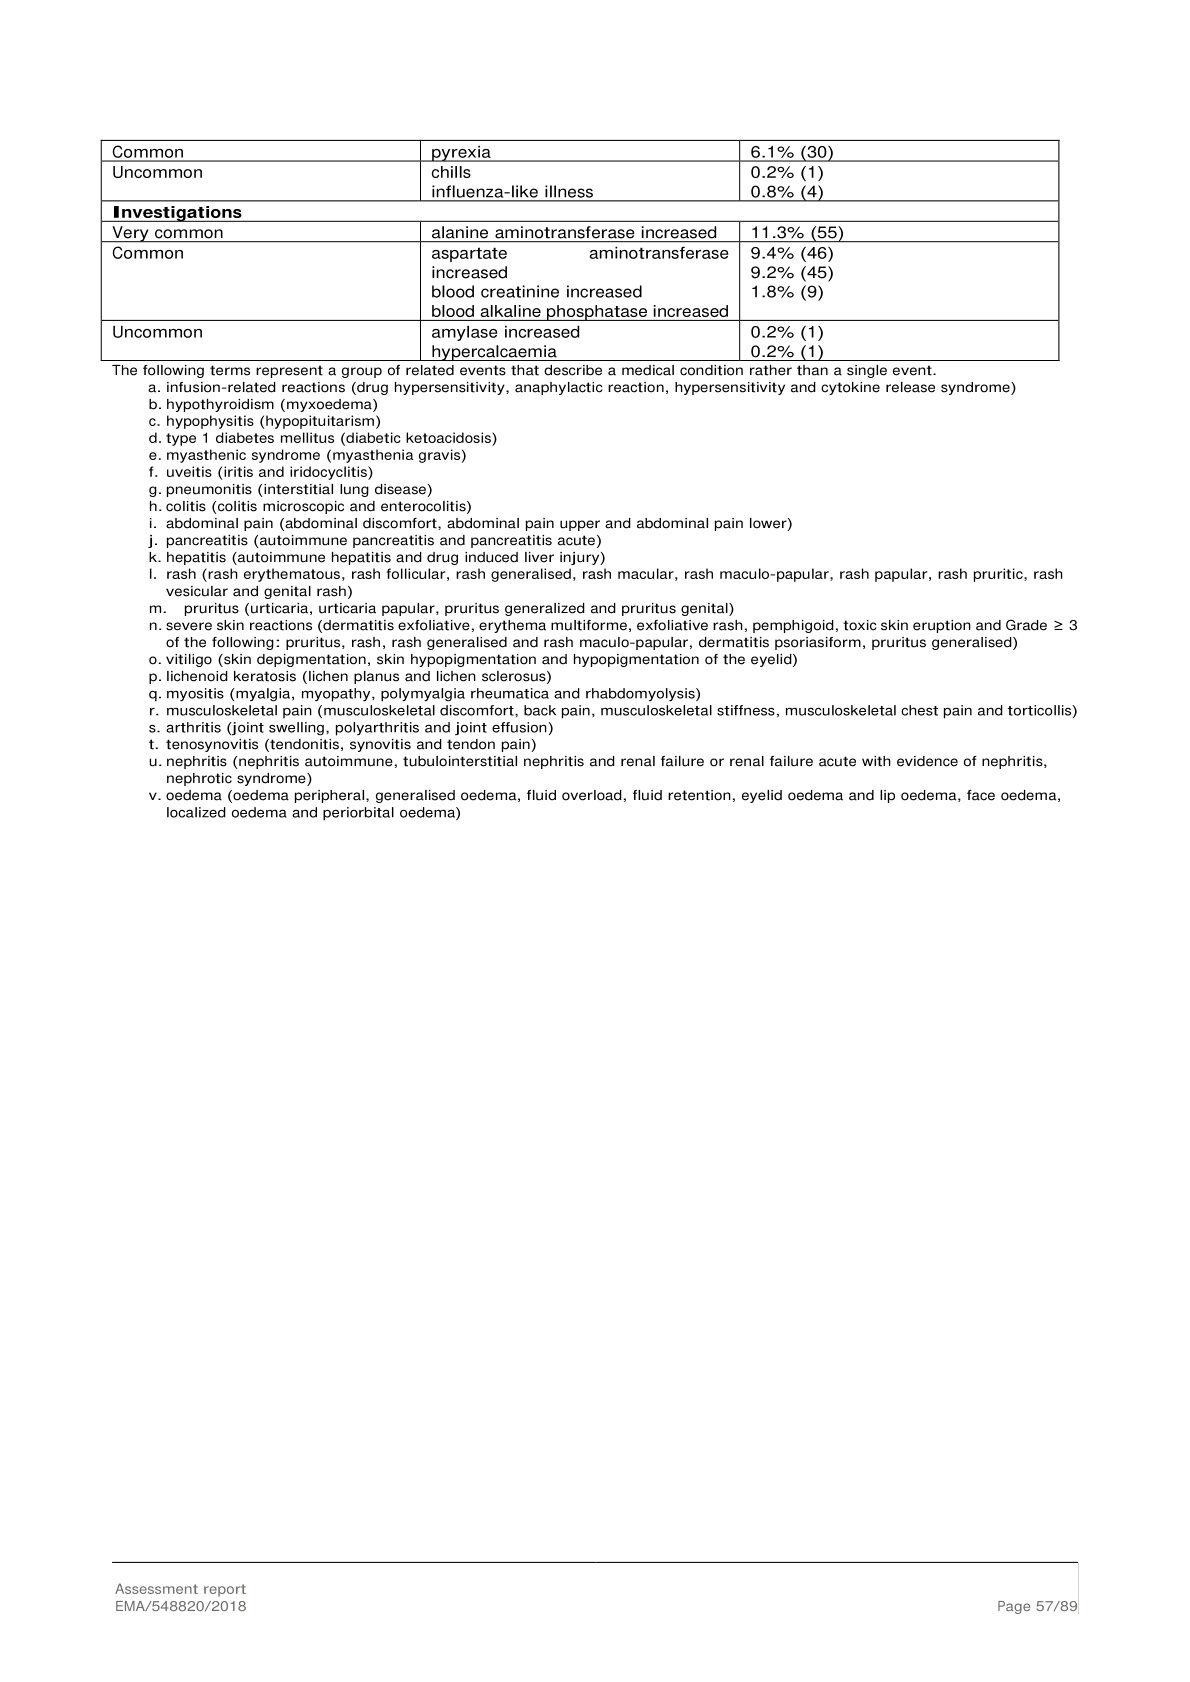merged_cells: (100, 139, 1061, 362)
